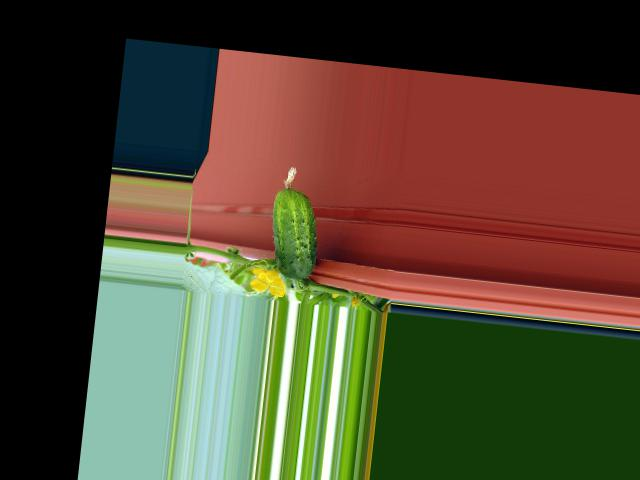cucumber: (264, 164, 325, 281)
